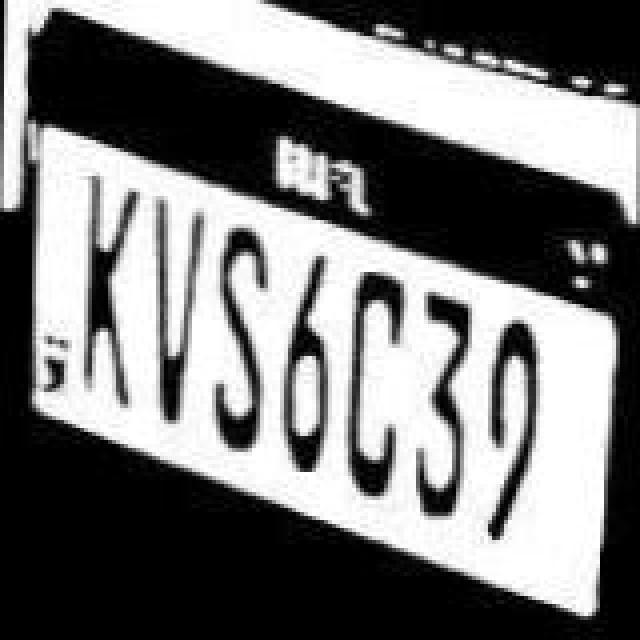3: (404, 284, 484, 528)
6: (268, 242, 336, 486)
9: (474, 296, 542, 544)
C: (334, 264, 410, 504)
K: (70, 164, 150, 404)
S: (206, 224, 278, 460)
V: (138, 196, 210, 424)
